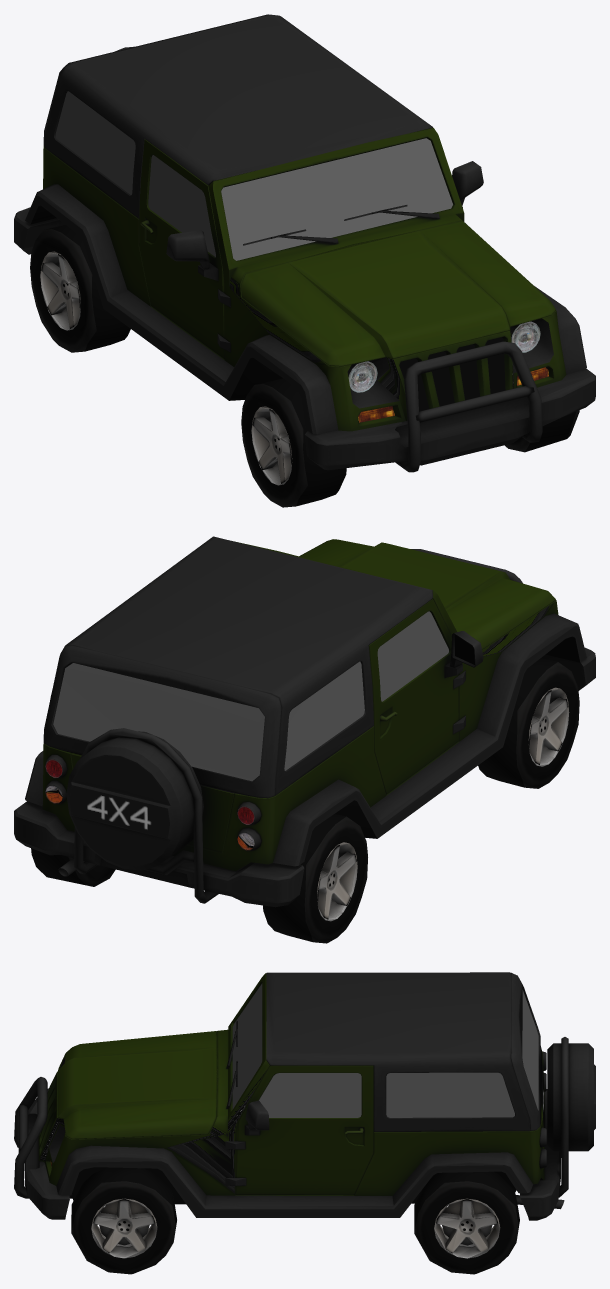
File: Offroad.glb
The picture shows the model from 3 angles, top to bottom: view 1: azimuth 30°, elevation 25°; view 2: azimuth 150°, elevation 25°; view 3: azimuth 270°, elevation 25°; orthographic projection. The views are drawn at different scales.
Visible parts, largest first — view 1: Offroad Body, Wheel_G001.001, Wheel_G002, Wheel_G; view 2: Offroad Body, Wheel_G001.001, Wheel_G002, Wheel_G001; view 3: Offroad Body, Wheel_G, Wheel_G001.
Boxes of the visible parts, <box> form: Offroad Body: <box>14,14,595,472</box>; Wheel_G001.001: <box>241,378,346,507</box>; Wheel_G002: <box>30,225,130,352</box>; Wheel_G: <box>505,410,579,452</box>; Offroad Body: <box>14,536,595,907</box>; Wheel_G001.001: <box>478,658,579,788</box>; Wheel_G002: <box>263,814,367,943</box>; Wheel_G001: <box>31,848,115,886</box>; Offroad Body: <box>14,972,595,1220</box>; Wheel_G: <box>71,1167,176,1274</box>; Wheel_G001: <box>414,1171,519,1274</box>.
Size of the model in its own units: 2.21 by 1.76 by 4.43.
Materials: 4 (3 with a texture image).
